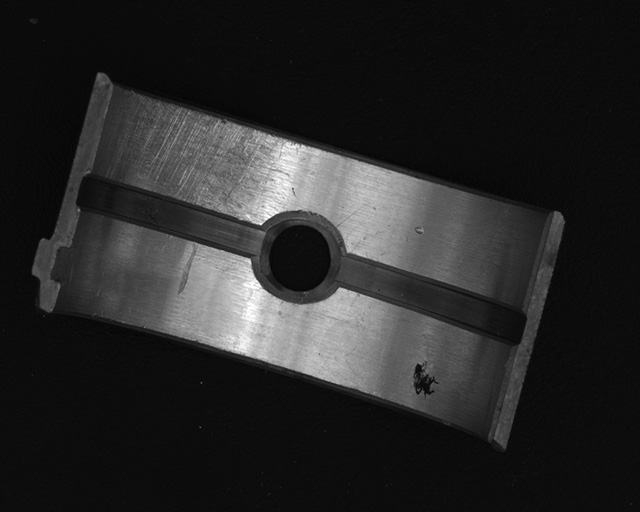blot: (412, 361, 441, 403)
bruise: (412, 226, 427, 235)
gap: (331, 252, 526, 348), (77, 174, 265, 259)
hole: (255, 213, 344, 298)
nick: (175, 241, 198, 296), (332, 203, 367, 229)
scratch: (110, 88, 290, 219)
